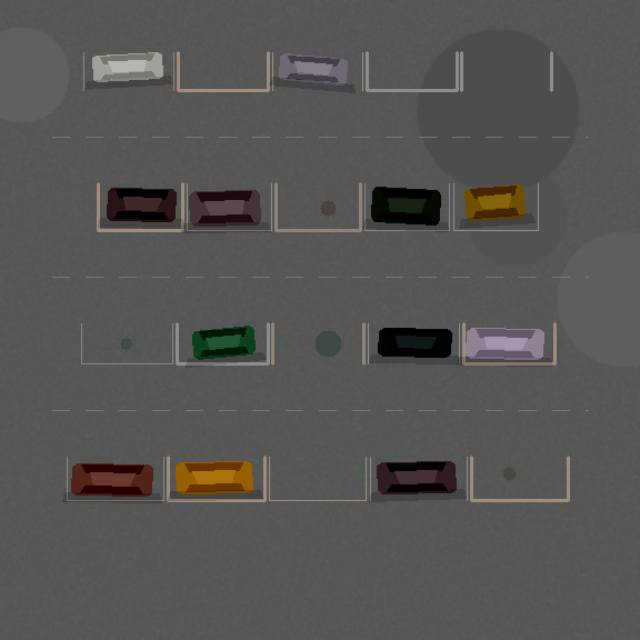space-empty: (269, 457, 366, 500), (471, 457, 568, 500), (276, 183, 360, 230), (81, 323, 172, 363), (272, 323, 363, 363), (178, 52, 268, 90), (367, 52, 457, 90), (461, 52, 551, 90)
space-occupied: (370, 457, 467, 500), (67, 457, 163, 500), (168, 457, 264, 500), (364, 183, 449, 230), (453, 183, 538, 230), (98, 183, 182, 230), (187, 183, 271, 230), (177, 323, 268, 363), (368, 323, 459, 363), (463, 323, 554, 363), (83, 52, 173, 90), (272, 52, 362, 90)
